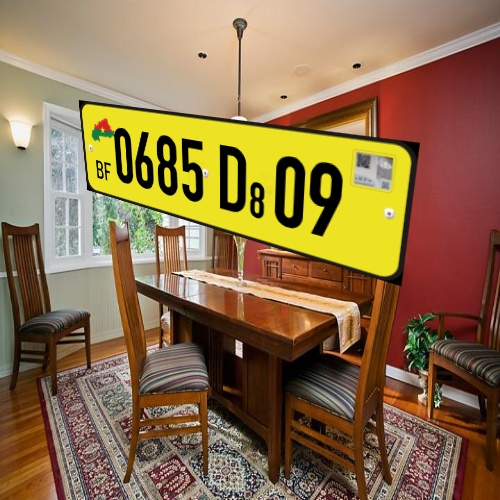plate: (60, 80, 427, 298)
